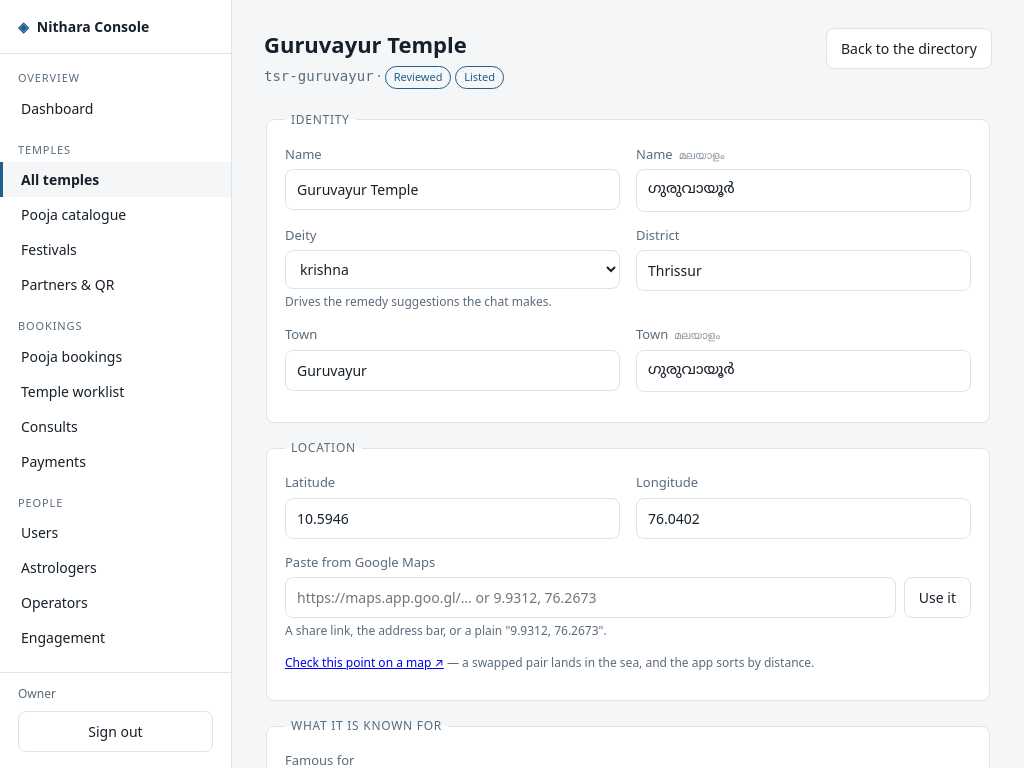
the editor › will not save a temple with no coordinates
Step 1. Clear the field showing "10.5946" → (452, 518), box [285,498,620,538]
(page scrolled)
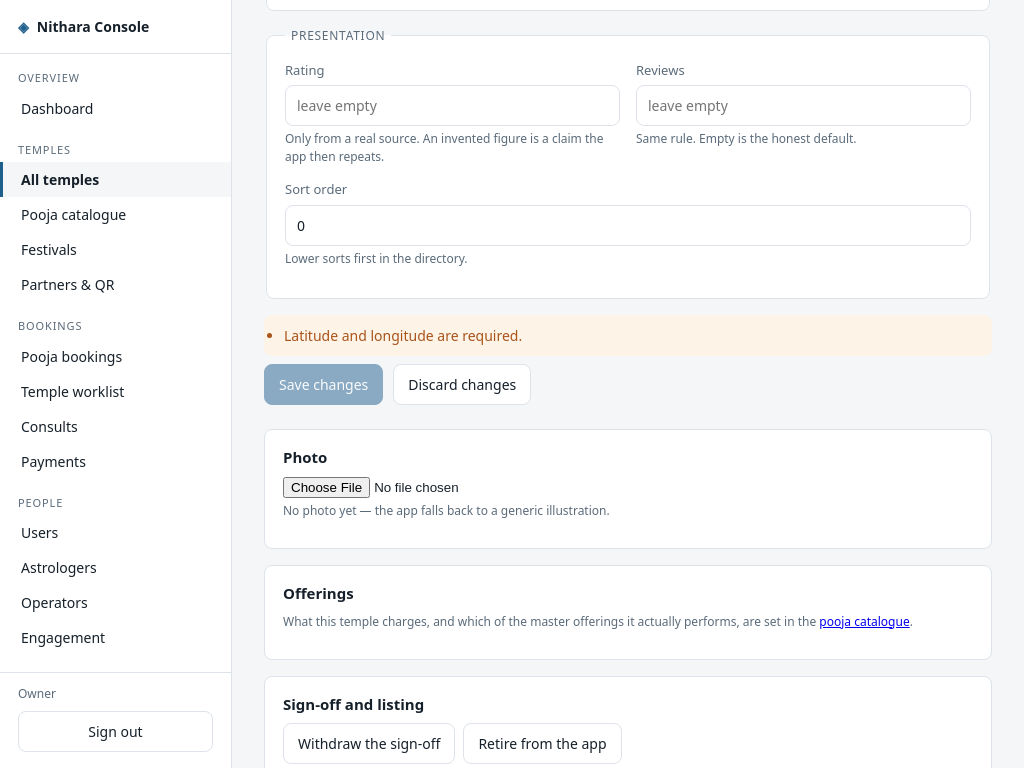
Expected: the button "Save changes" is disabled, [264,364,383,404]
Now the message reads "Latitude and longitude are required.", box [284,326,522,344]
